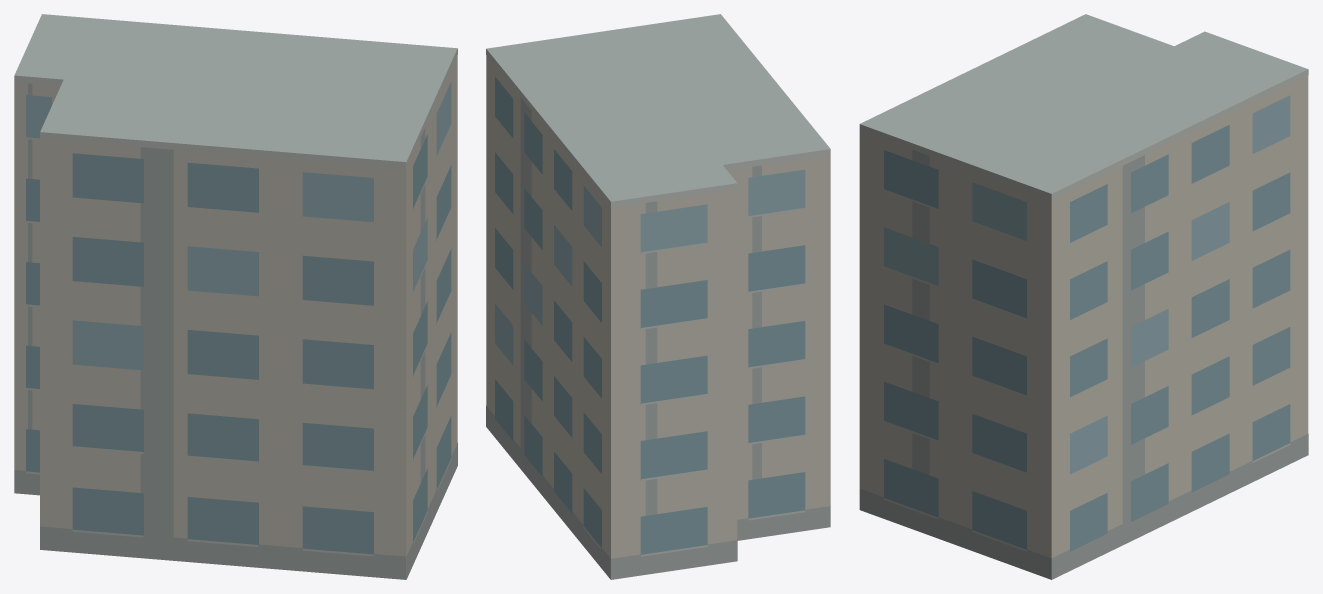
Rendered from survey-upis-32956862.glb.
3 renders of one model, left to right at view 1: azimuth 30°, elevation 25°; view 2: azimuth 150°, elevation 25°; view 3: azimuth 270°, elevation 25°, orthographic. The views are drawn at different scales.
Parts seen in each view (by area): view 1: survey-upis-32956862.tmp; view 2: survey-upis-32956862.tmp; view 3: survey-upis-32956862.tmp.
Part boxes in pixels (x1,y1,x2,y2): survey-upis-32956862.tmp: (14, 14, 457, 579); survey-upis-32956862.tmp: (486, 14, 830, 579); survey-upis-32956862.tmp: (859, 14, 1308, 579).
Bounding box in the file's own units: 14.91 × 14.9 × 15.71.
